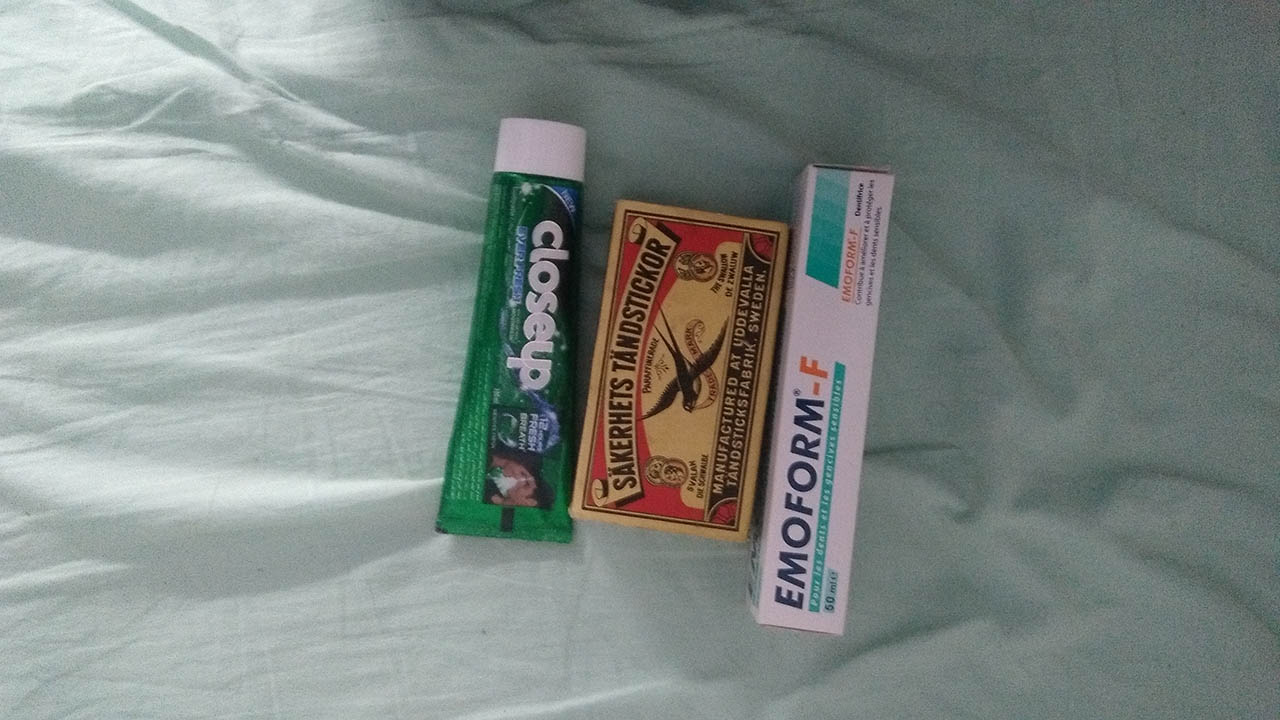Toothpaste-Closeup 3.04$: (437, 117, 616, 542)
Toothpaste-F 1.5$: (738, 162, 906, 632)
match-sticks .90$: (574, 217, 797, 534)
